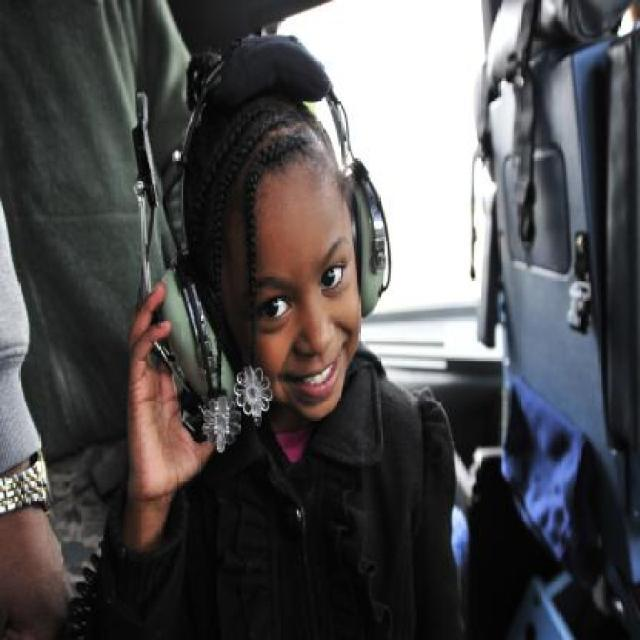earphone: (136, 0, 386, 398)
